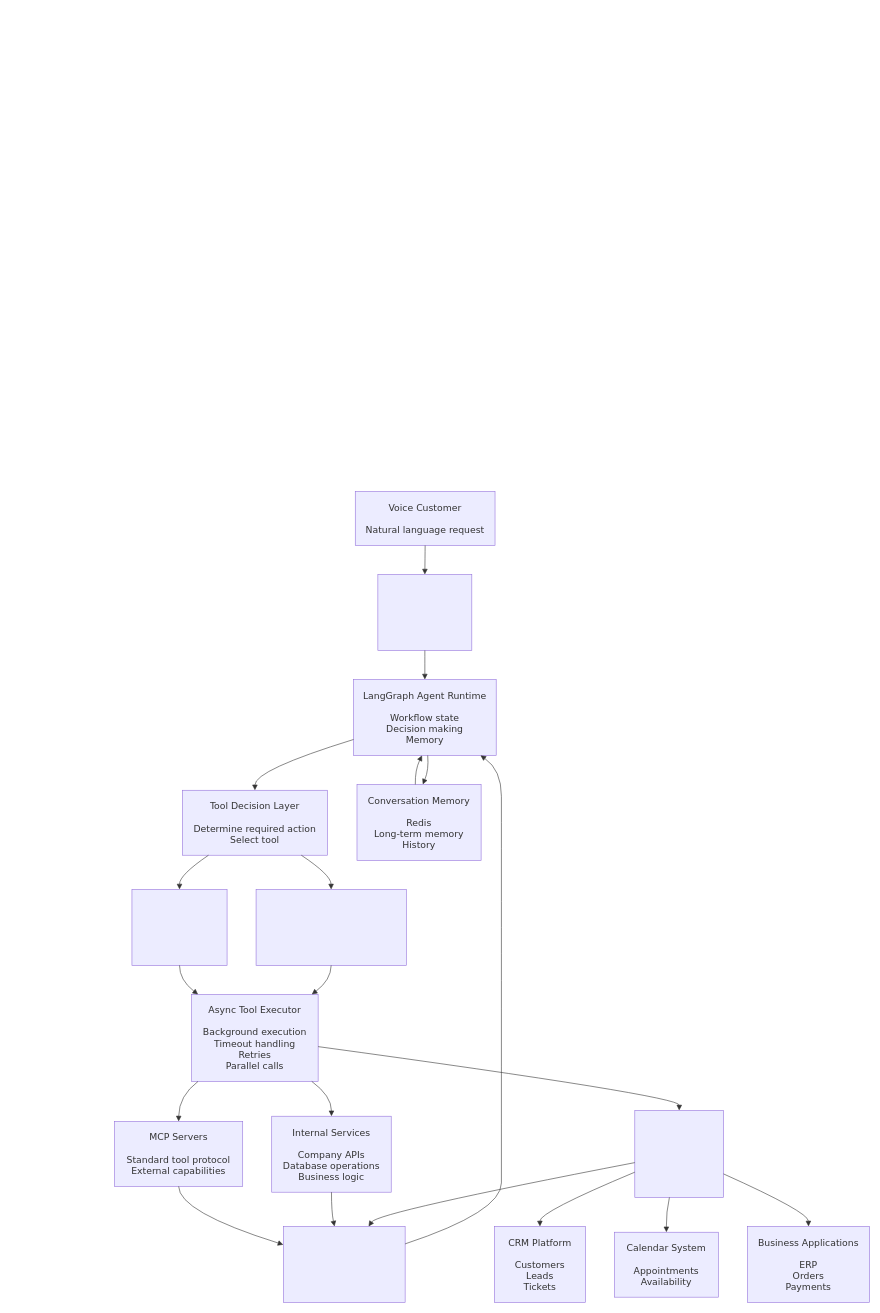
This 880x1313 diagram has some shape labels left out. Here are the shapes that lost their labels. From the top down, the centre of each, then its label:
(x=424, y=612): AI Voice Agent STT LLM TTS
(x=179, y=927): Tool Registry Available tools Schemas Descriptions
(x=330, y=927): Permission & Security Layer Tenant permissions Agent permissions Validation
(x=679, y=1153): External APIs CRM Calendar Payments Messaging
(x=344, y=1264): Tool Result Processor Format results Update memory Return context
